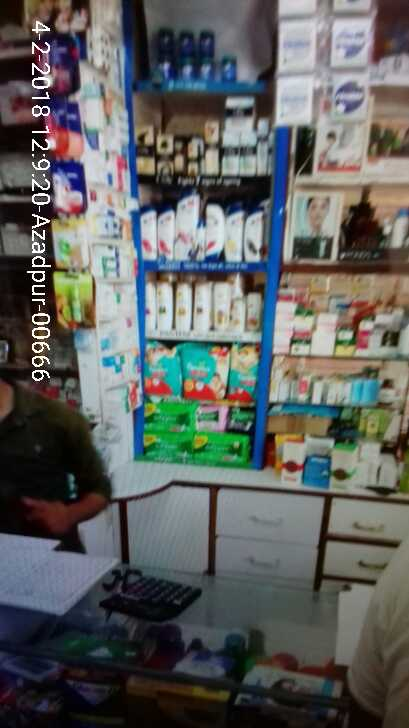vicks: (153, 25, 238, 81)
